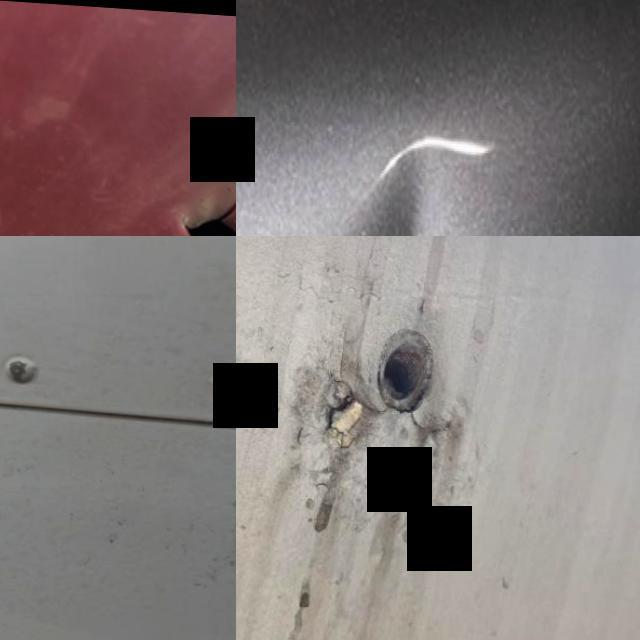Crack: (144, 360, 236, 640), (304, 367, 388, 450)
Dent: (351, 119, 455, 236)
